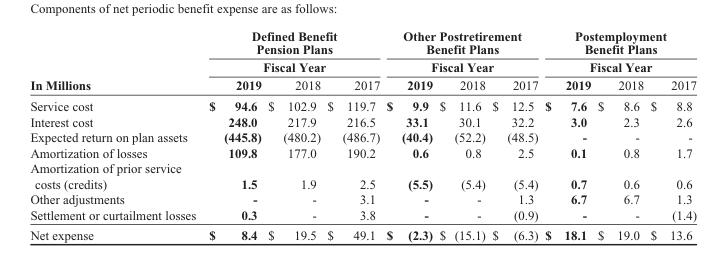table: (29, 28, 696, 242)
table column: (29, 28, 201, 242), (201, 28, 264, 242), (264, 28, 323, 242), (323, 28, 382, 242), (382, 28, 435, 242), (435, 28, 488, 242), (540, 28, 593, 242), (593, 28, 646, 242), (488, 28, 540, 242), (646, 28, 696, 242)
table column header: (29, 28, 696, 95)
table row: (29, 28, 696, 76), (29, 160, 696, 190), (29, 76, 696, 95), (29, 95, 696, 113), (29, 206, 696, 224), (29, 224, 696, 242), (29, 128, 696, 144), (29, 144, 696, 160), (29, 190, 696, 206), (29, 113, 696, 128)
table spanning cell: (29, 28, 201, 95), (201, 28, 382, 76), (382, 28, 540, 76), (540, 28, 696, 76)
